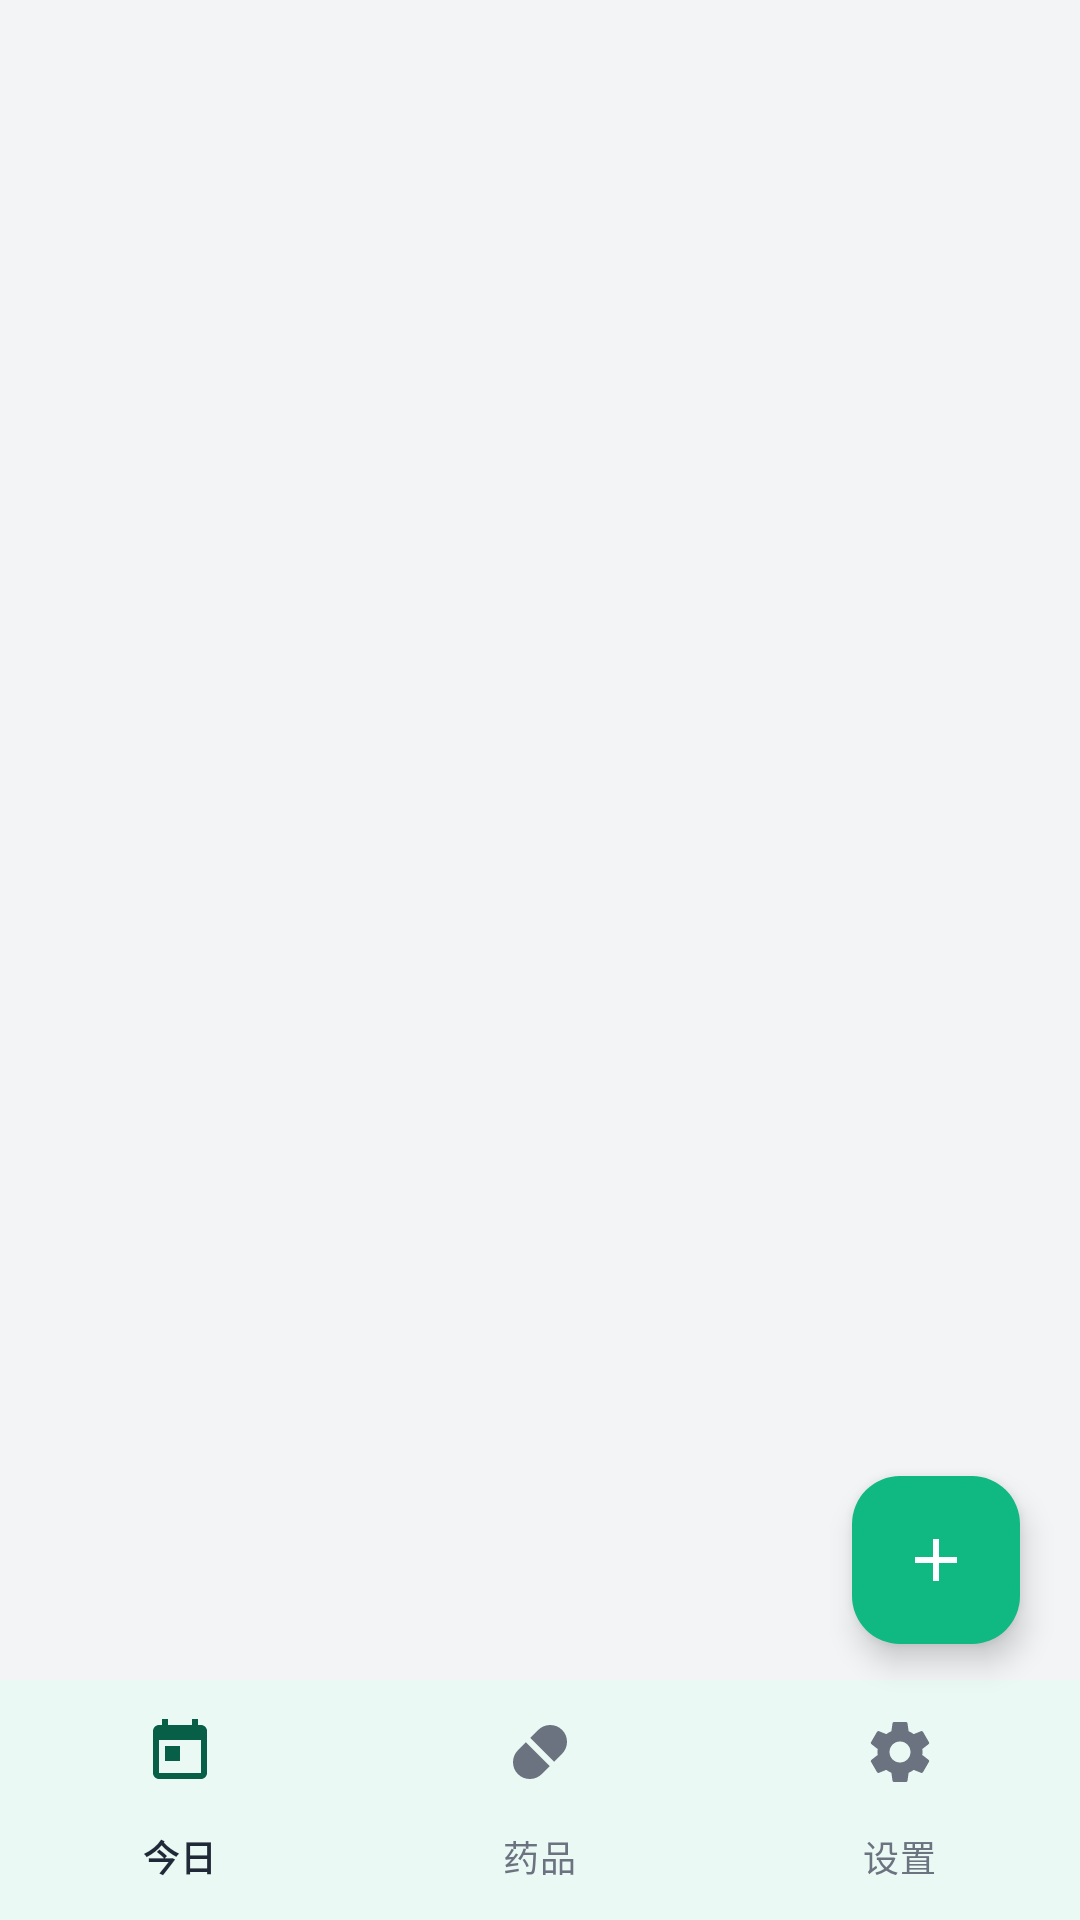

Icon click points for this 1080×1920 phone screenshot, format [x,y]:
添加药品: [936,1560]
